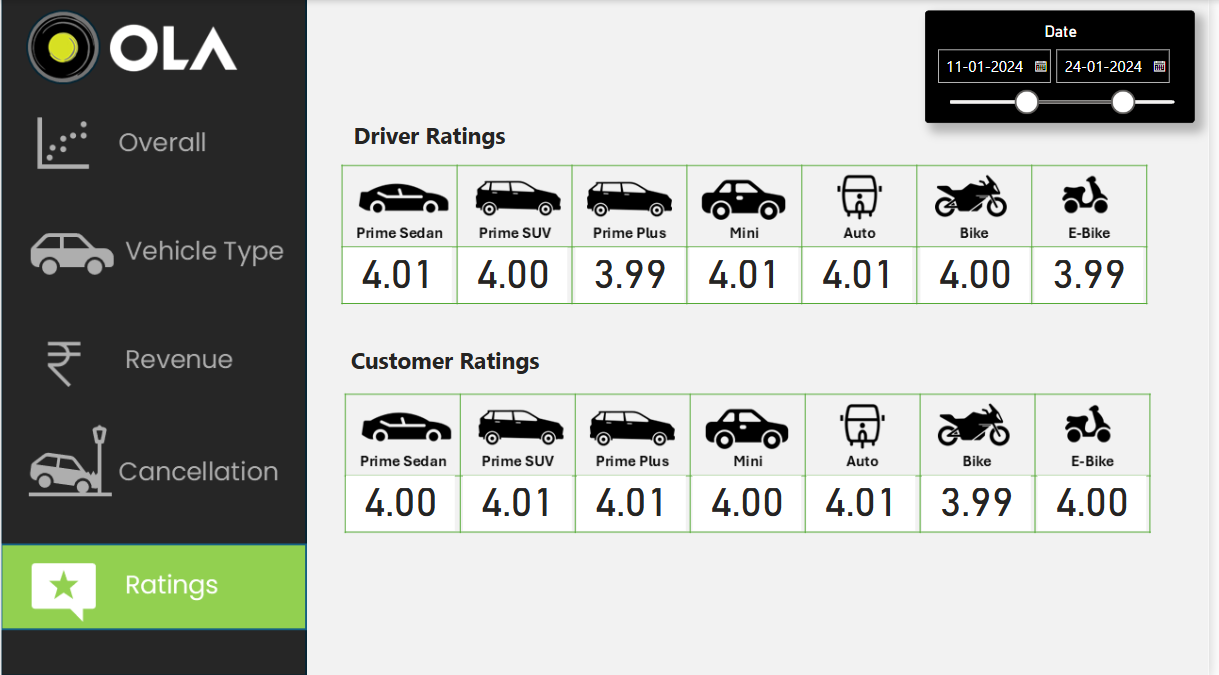

What the dashboard file says about the page in this screenshot:
{"tool":"powerbi","page":{"name":"Ratings","canvas":[1280,720],"ordinal":4},"visuals":[{"type":"actionButton","box":[0,446.7,323.3,90],"z":0},{"type":"actionButton","box":[0,340,323.3,90],"z":1000},{"type":"actionButton","box":[0,223.3,323.3,90],"z":2000},{"type":"actionButton","box":[0,106.7,323.3,90],"z":3000},{"type":"card","fields":{"Values":["Avg(Bengaluru_Ola_Booking_Data.Driver Ratings)"]},"box":[362.8,262.7,115.3,58.6],"z":4000},{"type":"card","fields":{"Values":["Avg(Bengaluru_Ola_Booking_Data.Driver Ratings)"]},"box":[850.4,262.7,115.3,58.6],"z":5000},{"type":"card","fields":{"Values":["Avg(Bengaluru_Ola_Booking_Data.Driver Ratings)"]},"box":[608.5,262.7,115.3,58.6],"z":6000},{"type":"card","fields":{"Values":["Avg(Bengaluru_Ola_Booking_Data.Driver Ratings)"]},"box":[485.7,262.7,115.3,58.6],"z":7000},{"type":"card","fields":{"Values":["Avg(Bengaluru_Ola_Booking_Data.Driver Ratings)"]},"box":[975.1,262.7,115.3,58.6],"z":8000},{"type":"card","fields":{"Values":["Avg(Bengaluru_Ola_Booking_Data.Driver Ratings)"]},"box":[729.5,262.7,115.3,58.6],"z":9000},{"type":"card","fields":{"Values":["Avg(Bengaluru_Ola_Booking_Data.Driver Ratings)"]},"box":[1096.1,262.7,115.3,58.6],"z":10000},{"type":"card","fields":{"Values":["Avg(Bengaluru_Ola_Booking_Data.Customer Rating)"]},"box":[366.6,504.6,115.3,58.6],"z":11000},{"type":"card","fields":{"Values":["Avg(Bengaluru_Ola_Booking_Data.Customer Rating)"]},"box":[489.5,504.6,115.3,58.6],"z":12000},{"type":"card","fields":{"Values":["Avg(Bengaluru_Ola_Booking_Data.Customer Rating)"]},"box":[610.4,504.6,115.3,58.6],"z":13000},{"type":"card","fields":{"Values":["Avg(Bengaluru_Ola_Booking_Data.Customer Rating)"]},"box":[733.2,504.6,115.3,58.6],"z":14000},{"type":"card","fields":{"Values":["Avg(Bengaluru_Ola_Booking_Data.Customer Rating)"]},"box":[854.2,504.6,115.3,58.6],"z":15000},{"type":"card","fields":{"Values":["Avg(Bengaluru_Ola_Booking_Data.Customer Rating)"]},"box":[977,504.6,115.3,58.6],"z":16000},{"type":"card","fields":{"Values":["Avg(Bengaluru_Ola_Booking_Data.Customer Rating)"]},"box":[1099.9,504.6,115.3,58.6],"z":17000},{"type":"textbox","box":[362.8,120.9,183.3,45.4],"z":18000},{"type":"textbox","box":[366.6,359.1,234.3,54.8],"z":18001},{"type":"slicer","title":"Date","fields":{"Values":["Bengaluru_Ola_Booking_Data.Date"]},"box":[979.8,11.1,286.3,119.3],"z":18002}]}

Visuals, with their boxes in screenshot pixels (x1, y1, x2, y2), scaled from the page's 1280x720 canvas onto the 1219x675 screenshot:
actionButton: x1=0, y1=419, x2=308, y2=503
actionButton: x1=0, y1=319, x2=308, y2=403
actionButton: x1=0, y1=209, x2=308, y2=294
actionButton: x1=0, y1=100, x2=308, y2=184
card - Avg(Bengaluru_Ola_Booking_Data.Driver Ratings): x1=346, y1=246, x2=455, y2=301
card - Avg(Bengaluru_Ola_Booking_Data.Driver Ratings): x1=810, y1=246, x2=920, y2=301
card - Avg(Bengaluru_Ola_Booking_Data.Driver Ratings): x1=580, y1=246, x2=689, y2=301
card - Avg(Bengaluru_Ola_Booking_Data.Driver Ratings): x1=463, y1=246, x2=572, y2=301
card - Avg(Bengaluru_Ola_Booking_Data.Driver Ratings): x1=929, y1=246, x2=1038, y2=301
card - Avg(Bengaluru_Ola_Booking_Data.Driver Ratings): x1=695, y1=246, x2=805, y2=301
card - Avg(Bengaluru_Ola_Booking_Data.Driver Ratings): x1=1044, y1=246, x2=1154, y2=301
card - Avg(Bengaluru_Ola_Booking_Data.Customer Rating): x1=349, y1=473, x2=459, y2=528
card - Avg(Bengaluru_Ola_Booking_Data.Customer Rating): x1=466, y1=473, x2=576, y2=528
card - Avg(Bengaluru_Ola_Booking_Data.Customer Rating): x1=581, y1=473, x2=691, y2=528
card - Avg(Bengaluru_Ola_Booking_Data.Customer Rating): x1=698, y1=473, x2=808, y2=528
card - Avg(Bengaluru_Ola_Booking_Data.Customer Rating): x1=813, y1=473, x2=923, y2=528
card - Avg(Bengaluru_Ola_Booking_Data.Customer Rating): x1=930, y1=473, x2=1040, y2=528
card - Avg(Bengaluru_Ola_Booking_Data.Customer Rating): x1=1047, y1=473, x2=1157, y2=528
textbox: x1=346, y1=113, x2=520, y2=156
textbox: x1=349, y1=337, x2=572, y2=388
"Date" slicer: x1=933, y1=10, x2=1206, y2=122
